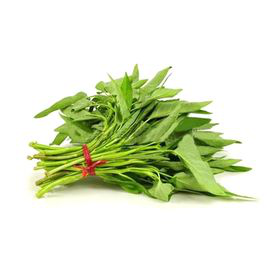Kangkung: (25, 55, 265, 215)
